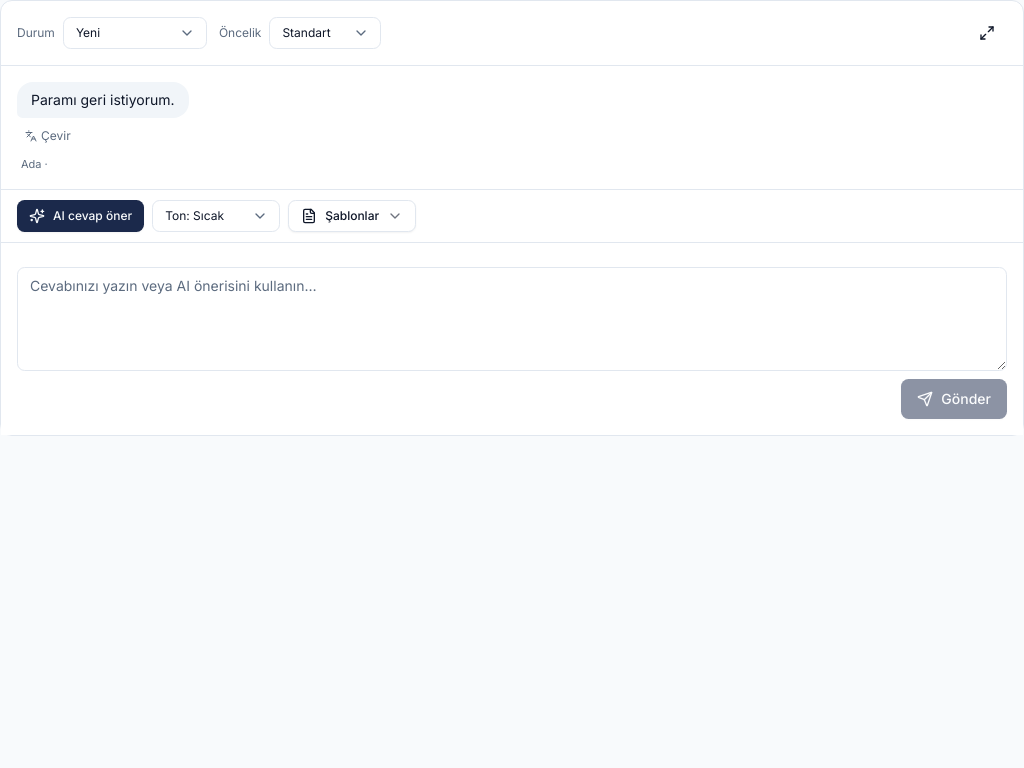
Test: konuşma ekranı — yapay zekâ önerisi hazırlanamadığında (3d) › not bir sonraki denemede temizlenir (yeni istek başlarken)
Click the button "AI cevap öner". click: (81, 216)
box: [17,200,144,232]
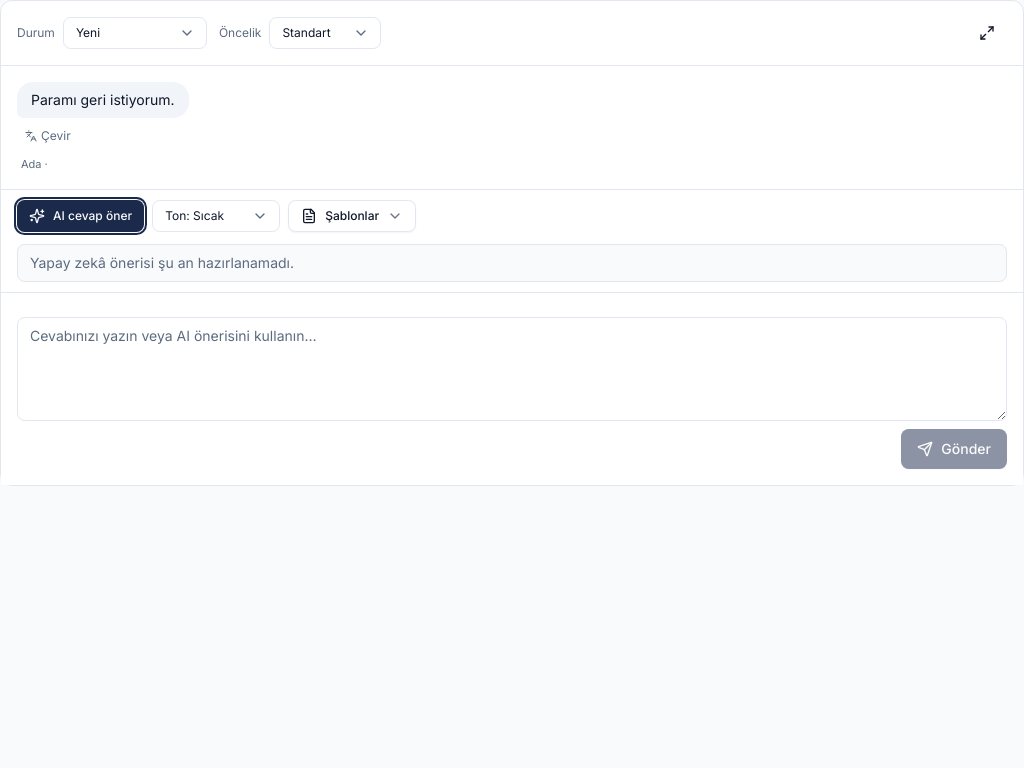
Expected: the message "Yapay zekâ önerisi şu an hazırlanamadı." is shown, [17,244,1007,282]
Click the button "AI cevap öner". click: (81, 216)
box: [17,200,144,232]
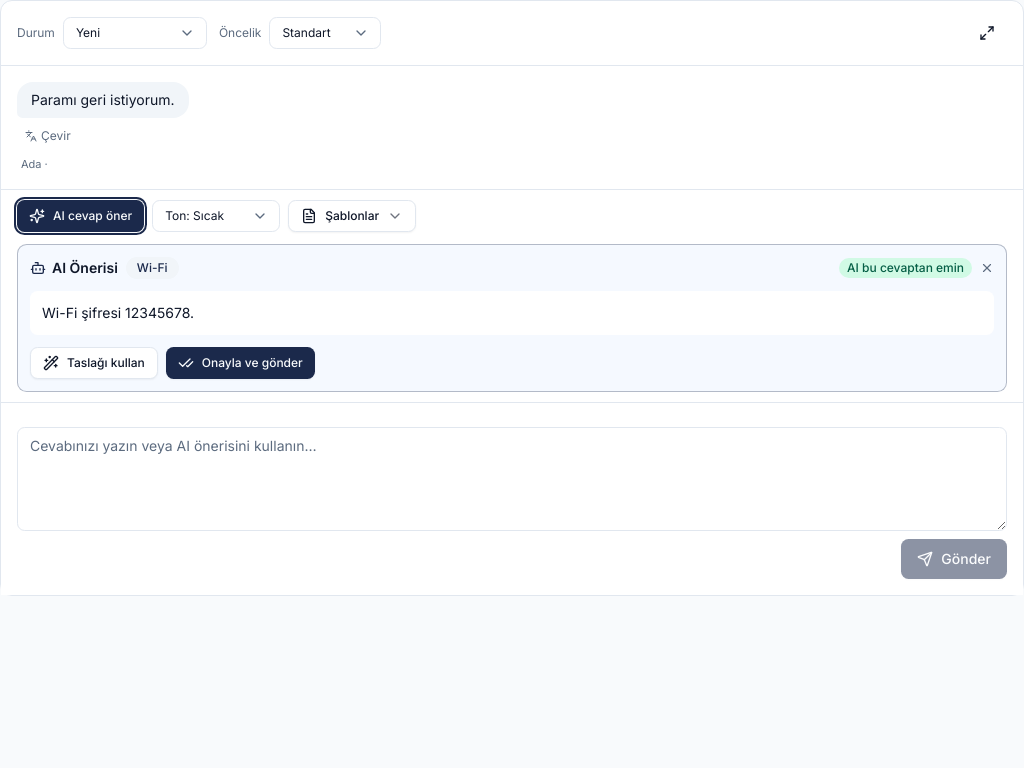
Expected: the message with test id "no-ai-suggestion" is gone
Expected: the text "Wi-Fi şifresi 12345678." is shown, [30,290,994,334]
